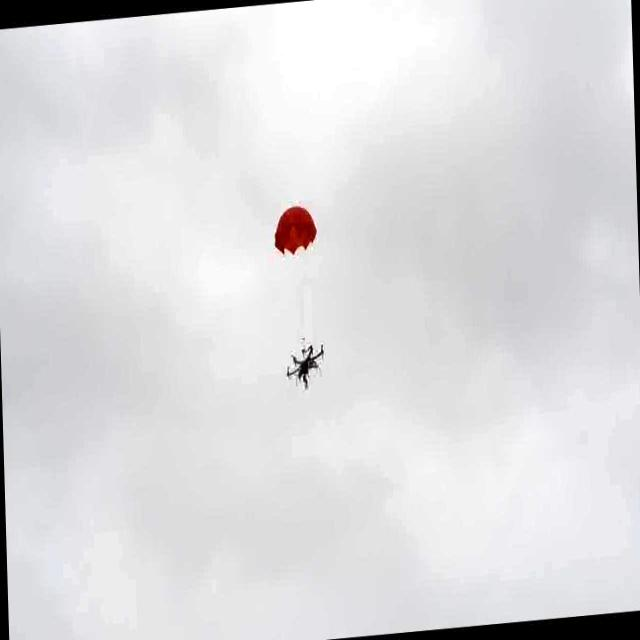drone: (284, 342, 326, 389)
